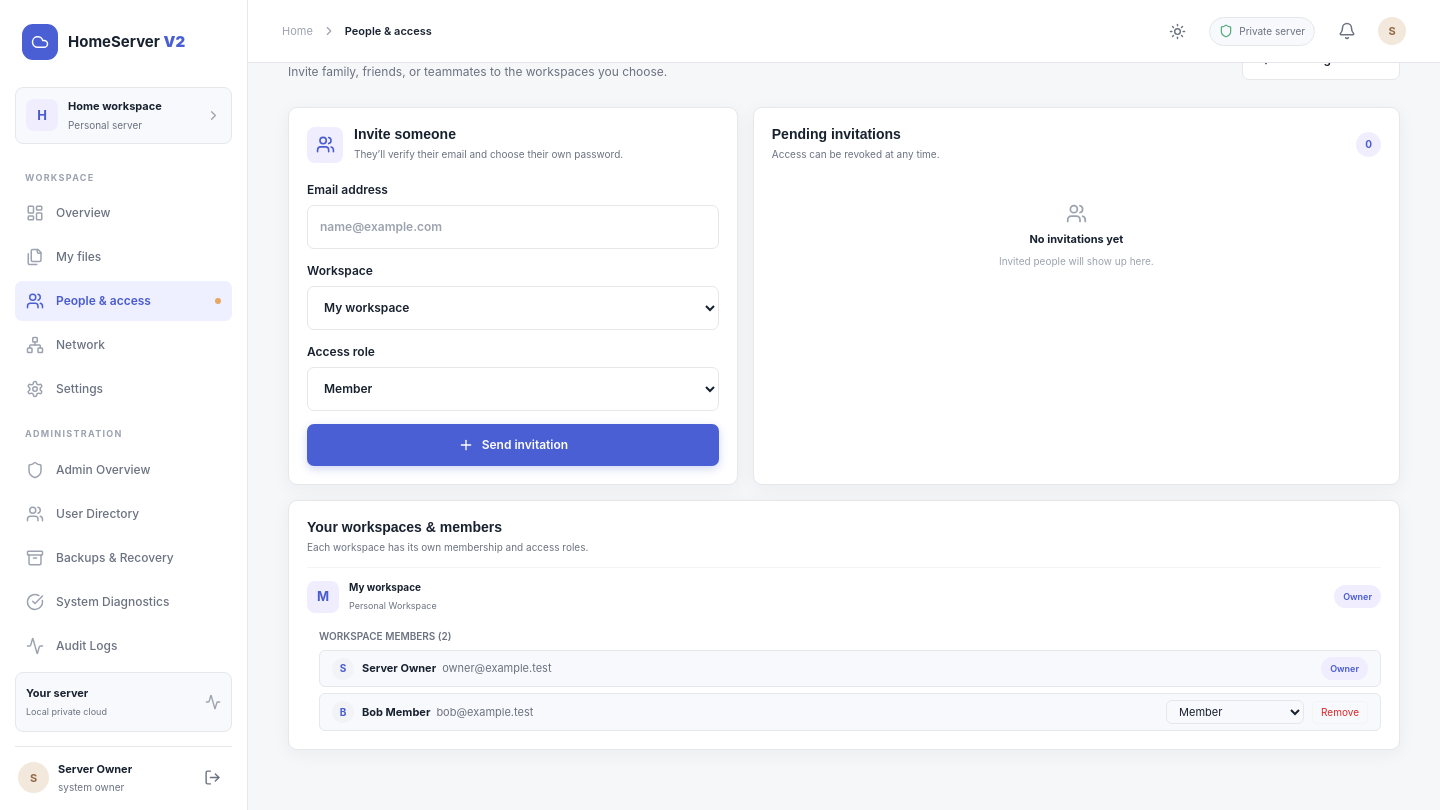
Test: HomeServer V2 user flows › allows changing workspace member role between Member and Read-only member
This screenshot has width=1440, height=810.
(page scrolled)
Expected: the heading "Your workspaces & members" is shown, [307,519,502,535]
Expected: the text "Bob Member" is shown, [362,705,430,719]
Select "Read-only member" in the dropdown named "Role for Bob Member": coordinates (1235, 712) [1166,700,1304,724]
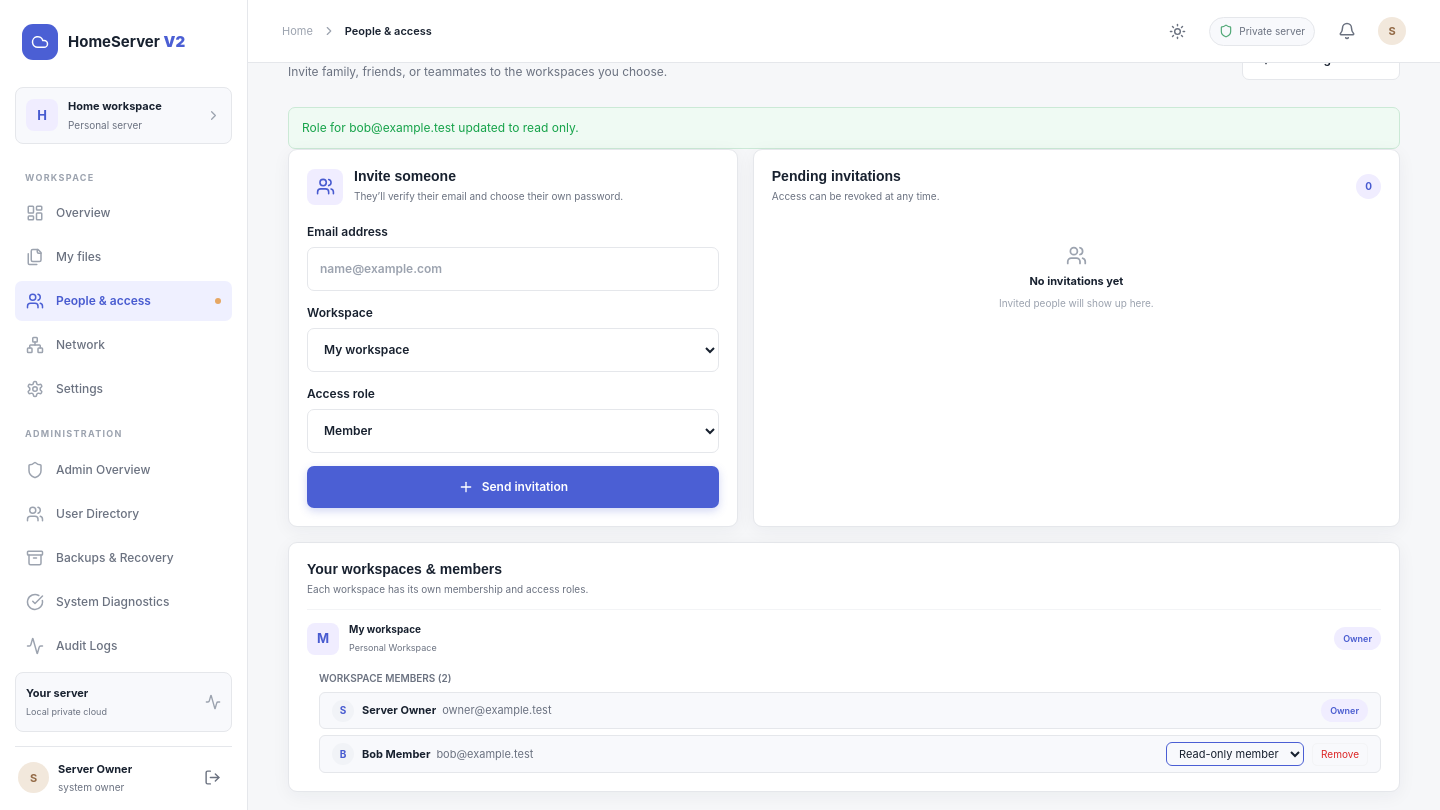
Now the text "Role for bob@example.test updated to read only." is shown, box [288,107,1400,149]
Select "Member" in the dropdown named "Role for Bob Member": coordinates (1235, 754) [1166,742,1304,766]
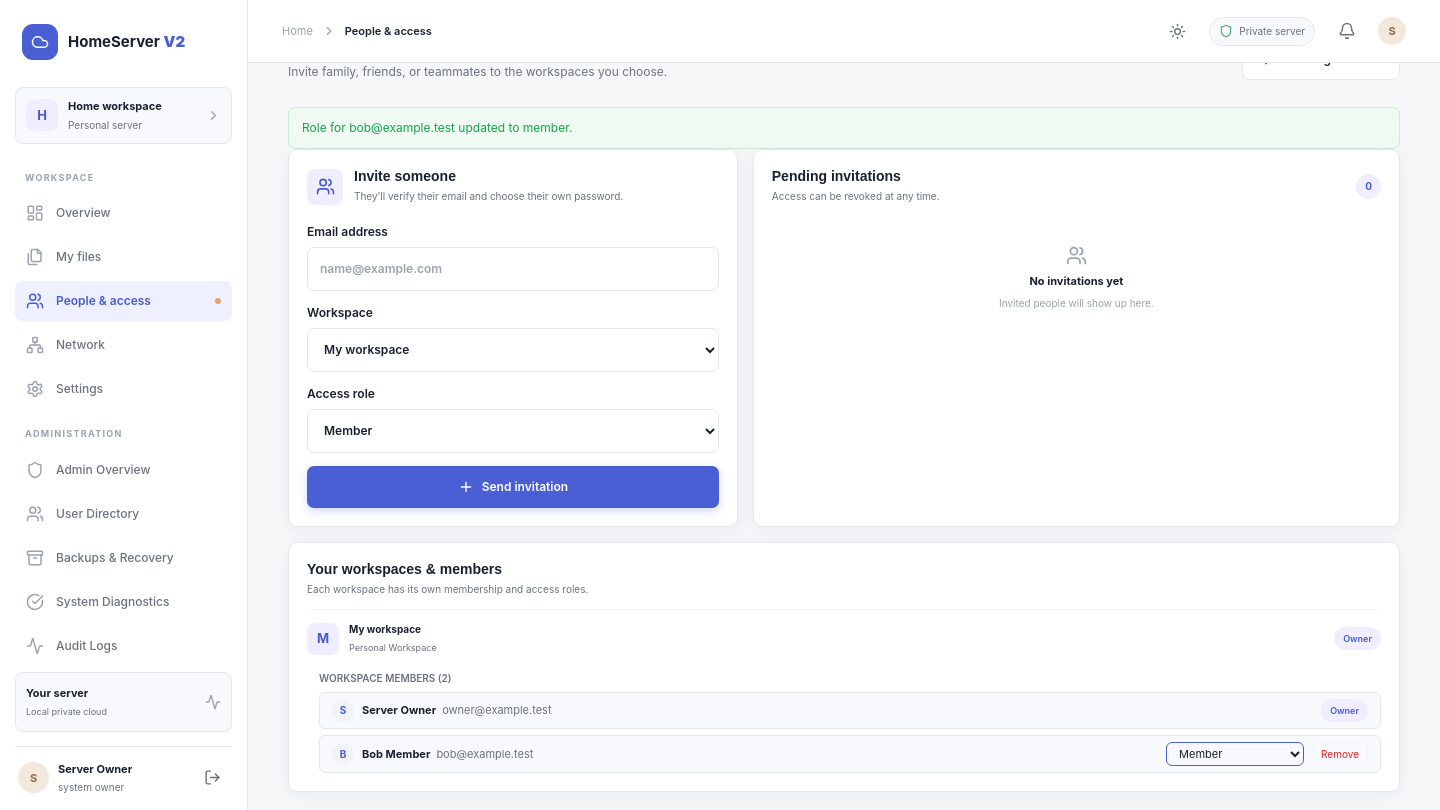
Now the text "Role for bob@example.test updated to member." is shown, box [288,107,1400,149]
